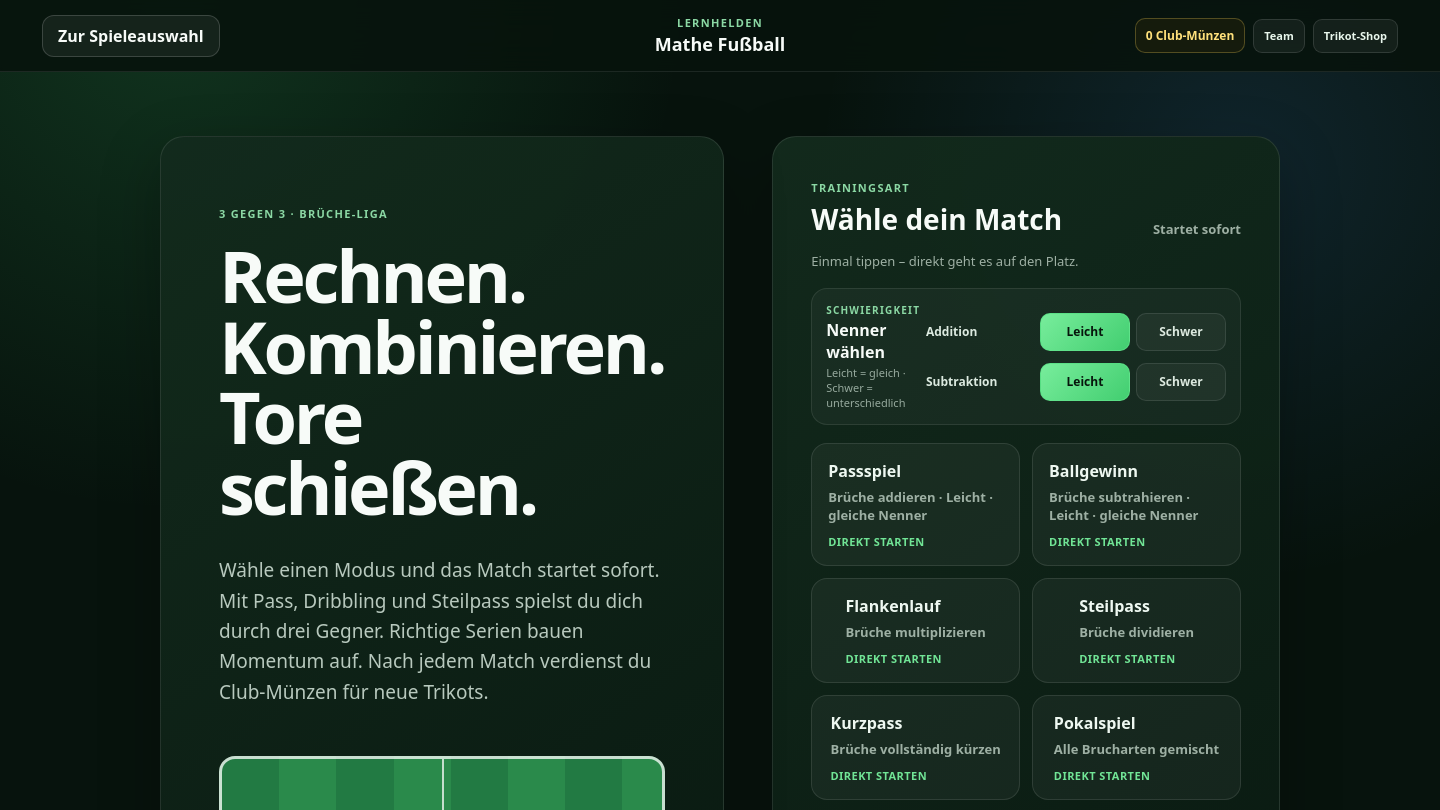
it: isolated football integration › keeps football difficulty local without replacing the fraction provider
expect the text "Addition" is shown: met, box [926,323,977,340]
Click the button "Schwer" in the row of "Addition": (1181,332) [1136,312,1226,350]
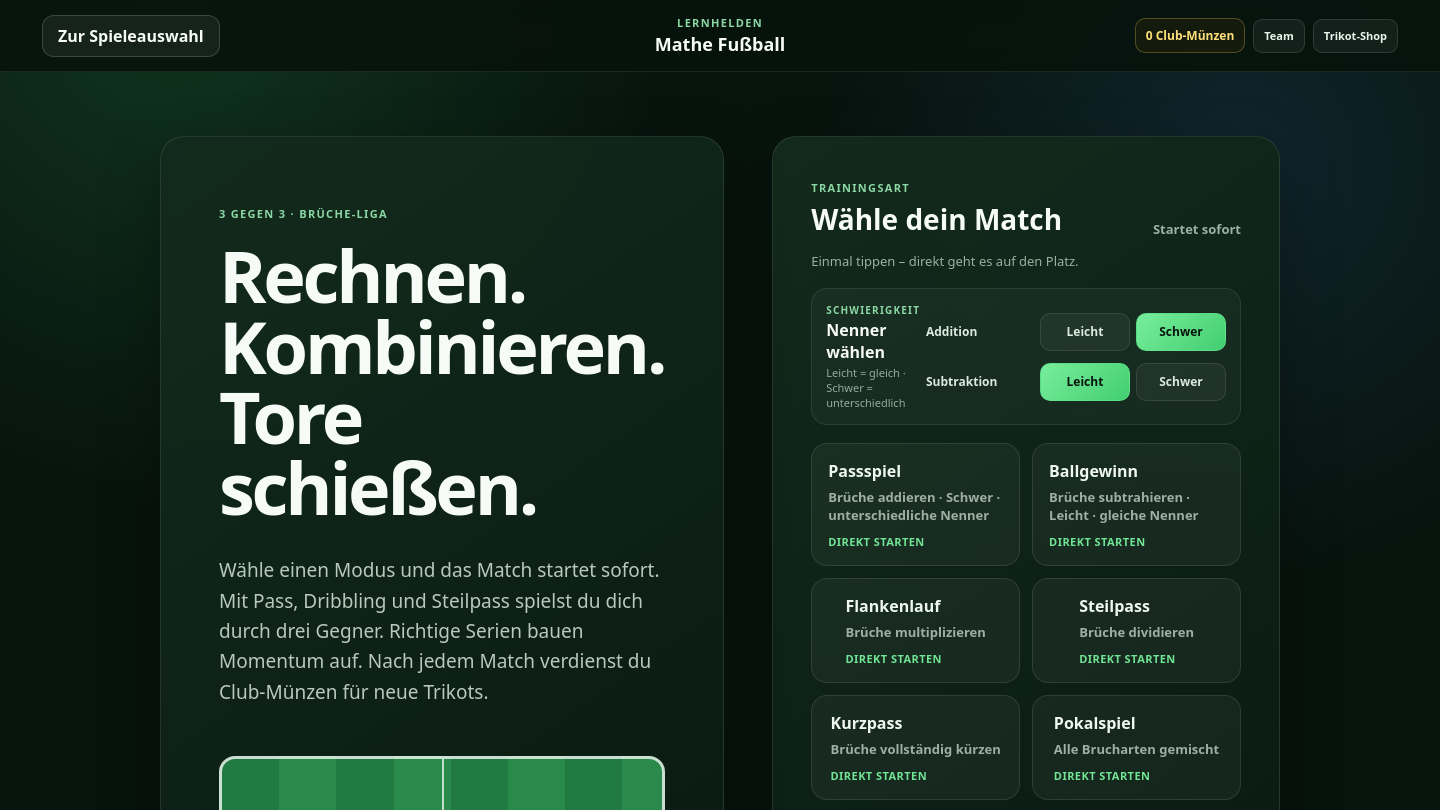
Click the button "Passspiel Brüche addieren · Schwer · unterschiedliche Nenner": (916,504) [811,443,1020,566]
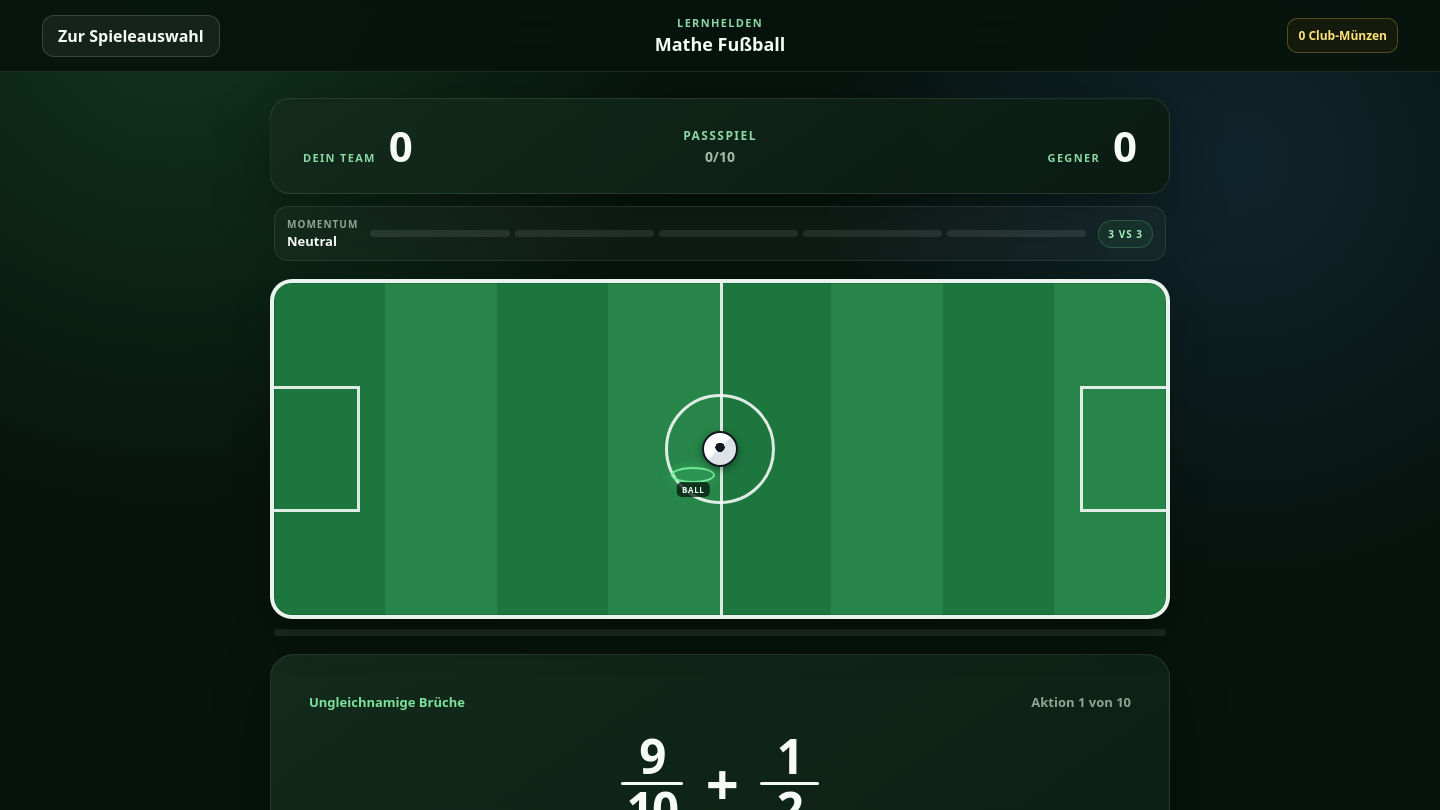
expect the text "Ungleichnamige Brüche" is shown: met, box [309,693,465,711]
